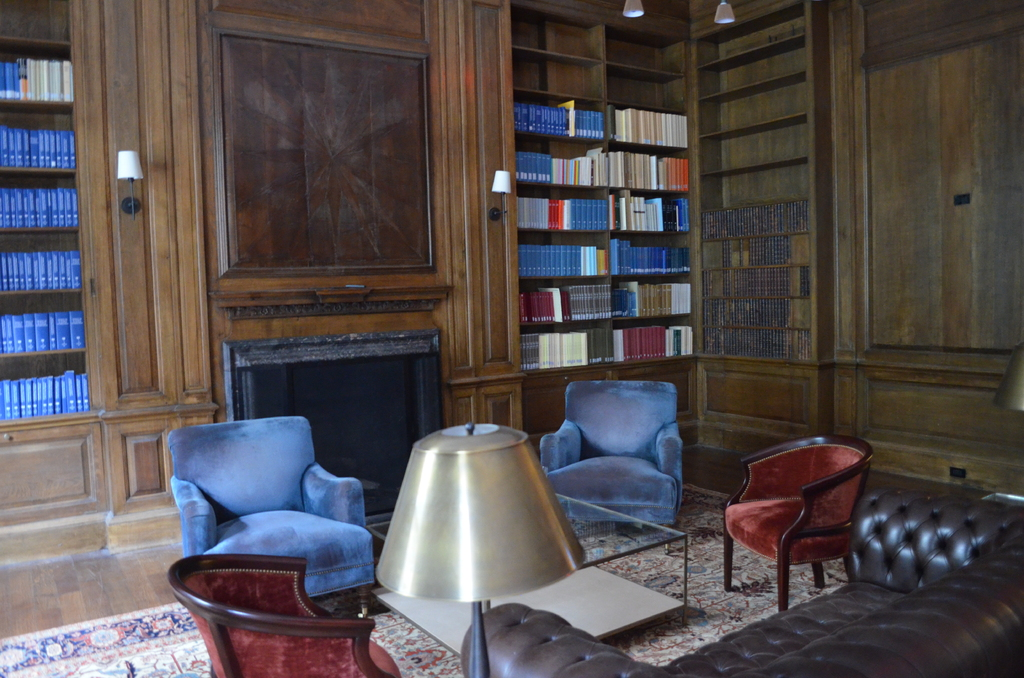Couch: (134, 411, 365, 598)
